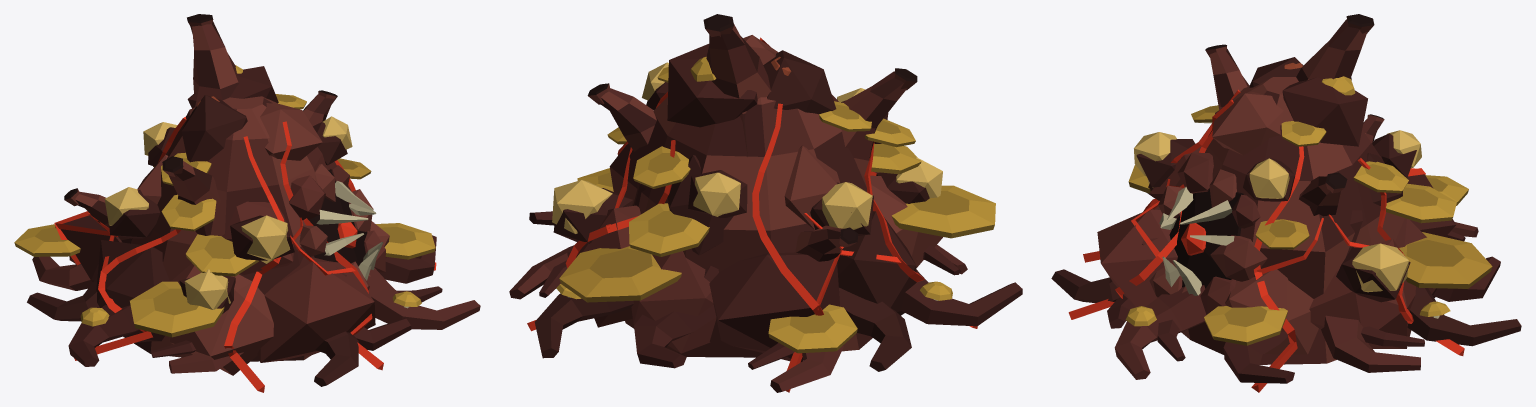
File: ninho.glb
3 renders of one model, left to right at view 1: azimuth 30°, elevation 25°; view 2: azimuth 150°, elevation 25°; view 3: azimuth 270°, elevation 25°, orthographic. The views are drawn at different scales.
Visible parts, largest first — view 1: ninho.001; view 2: ninho.001; view 3: ninho.001.
Boxes of the visible parts, x1,y1,x2,y2 form: ninho.001: (14, 14, 480, 392); ninho.001: (509, 14, 1022, 392); ninho.001: (1051, 14, 1521, 392).
Size of the model in its own units: 2.06 by 1.45 by 2.03.
